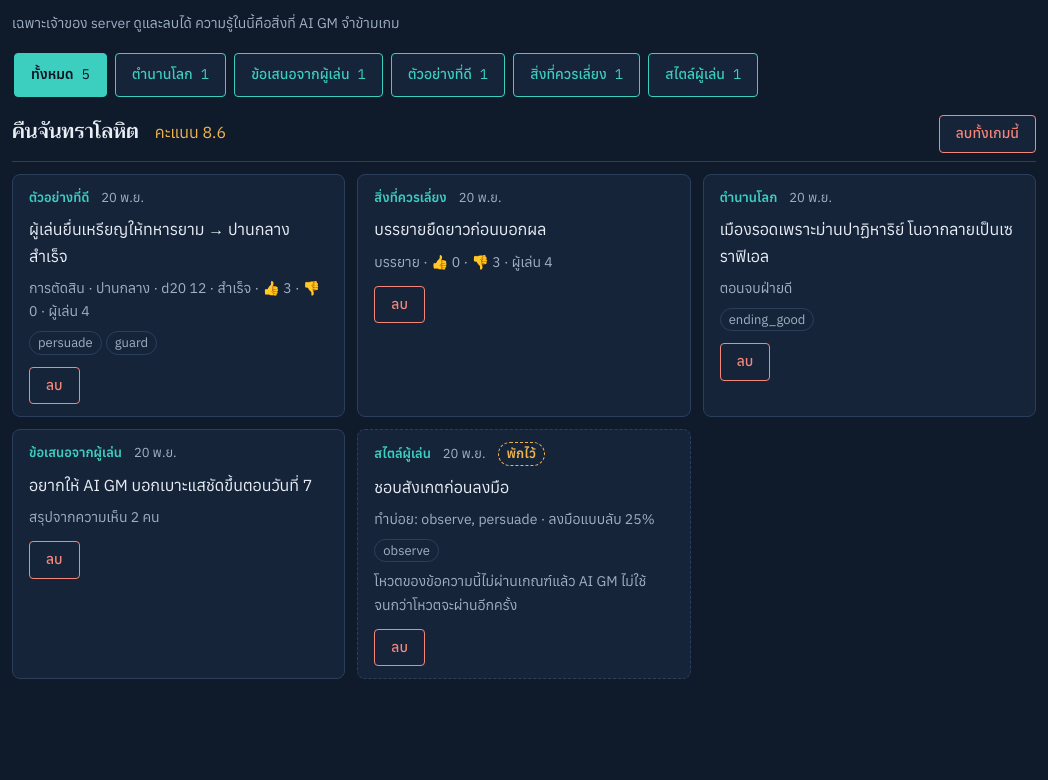
Test: GEN-084 Learning library › C1: the entries by source game (name + date) in 5 types; good / avoid show 👍 / 👎 / players; a type chip narrows the list
Expected: the text "คะแนน 8.6" is shown, [155, 119, 226, 146]
Click the button "ตัวอย่างที่ดี 1" at (448, 75), box [391, 53, 505, 97]
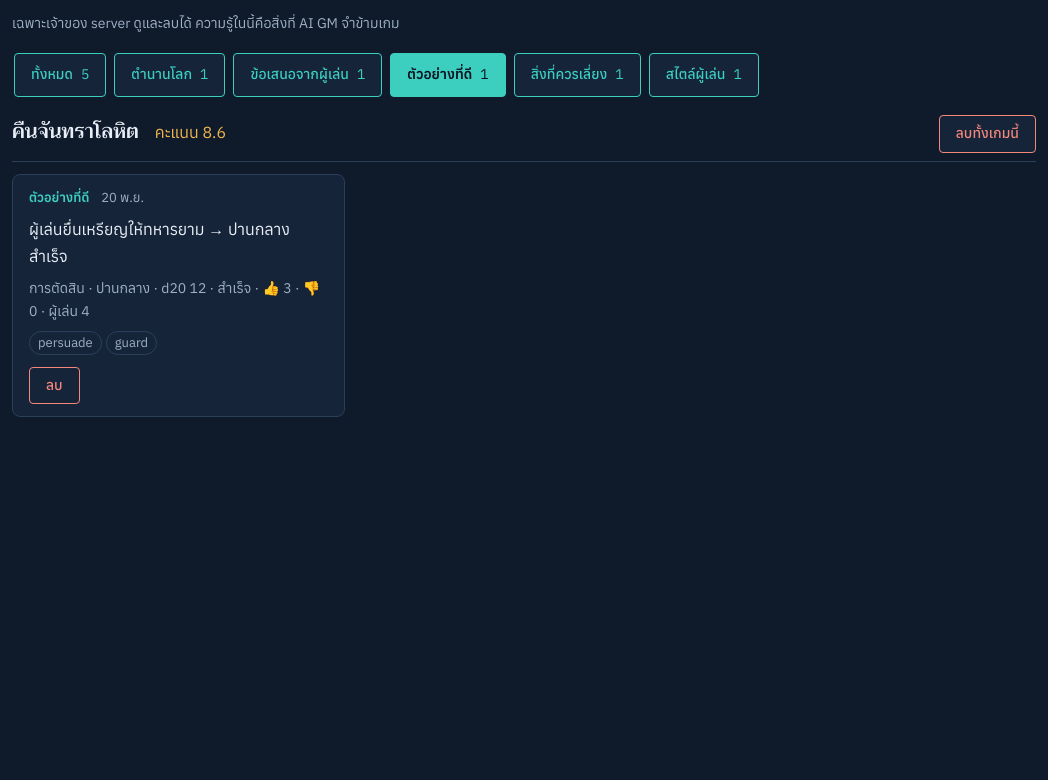
Expected: the element that starts with "ตัวอย่างที่ดี" shows "d20 12", [29, 279, 320, 320]
Expected: the element that starts with "ตัวอย่างที่ดี" shows "ปานกลาง", [29, 219, 290, 266]
Click the button "สิ่งที่ควรเลี่ยง 1" at (577, 75), box [514, 53, 641, 97]
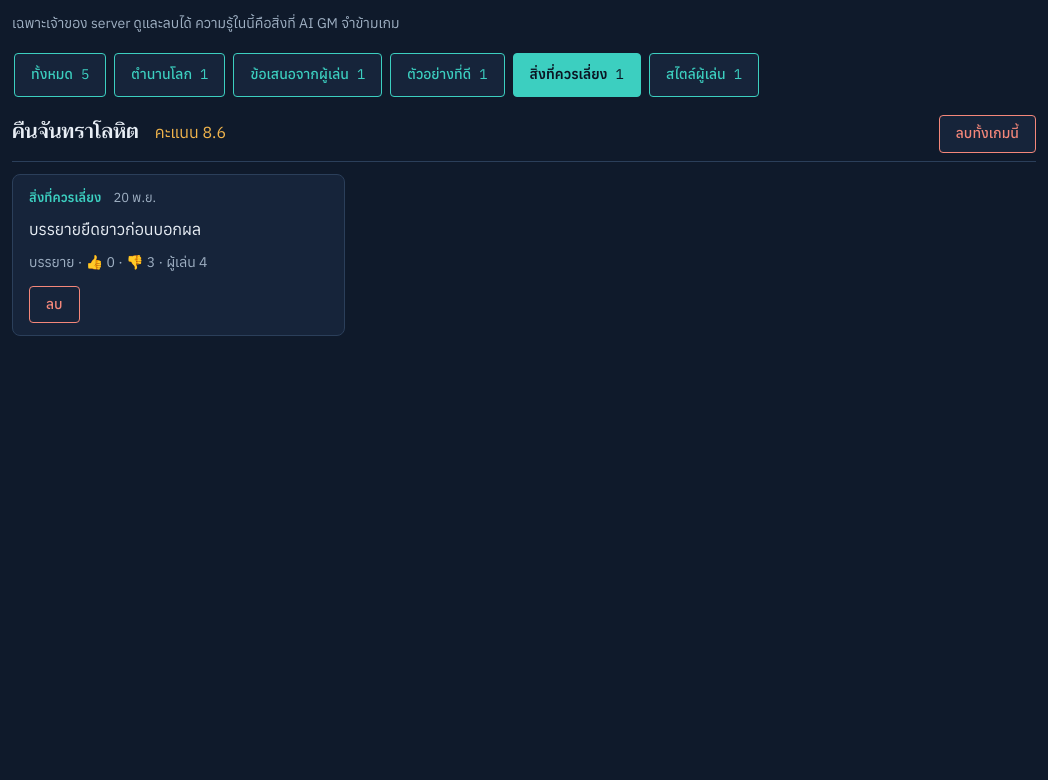
Expected: the element that starts with "สิ่งที่ควรเลี่ยง" shows "ผู้เล่น 4", [29, 252, 207, 270]
Now the element that starts with "สิ่งที่ควรเลี่ยง" shows "👍 0", box [29, 252, 207, 270]
Now the element that starts with "สิ่งที่ควรเลี่ยง" shows "👎 3", box [29, 252, 207, 270]
